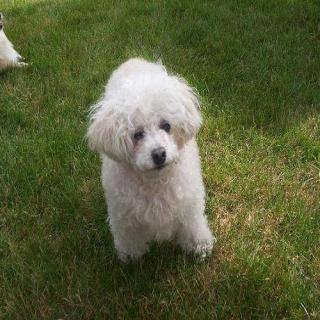dog: (82, 49, 208, 177)
nose: (148, 146, 168, 167)
